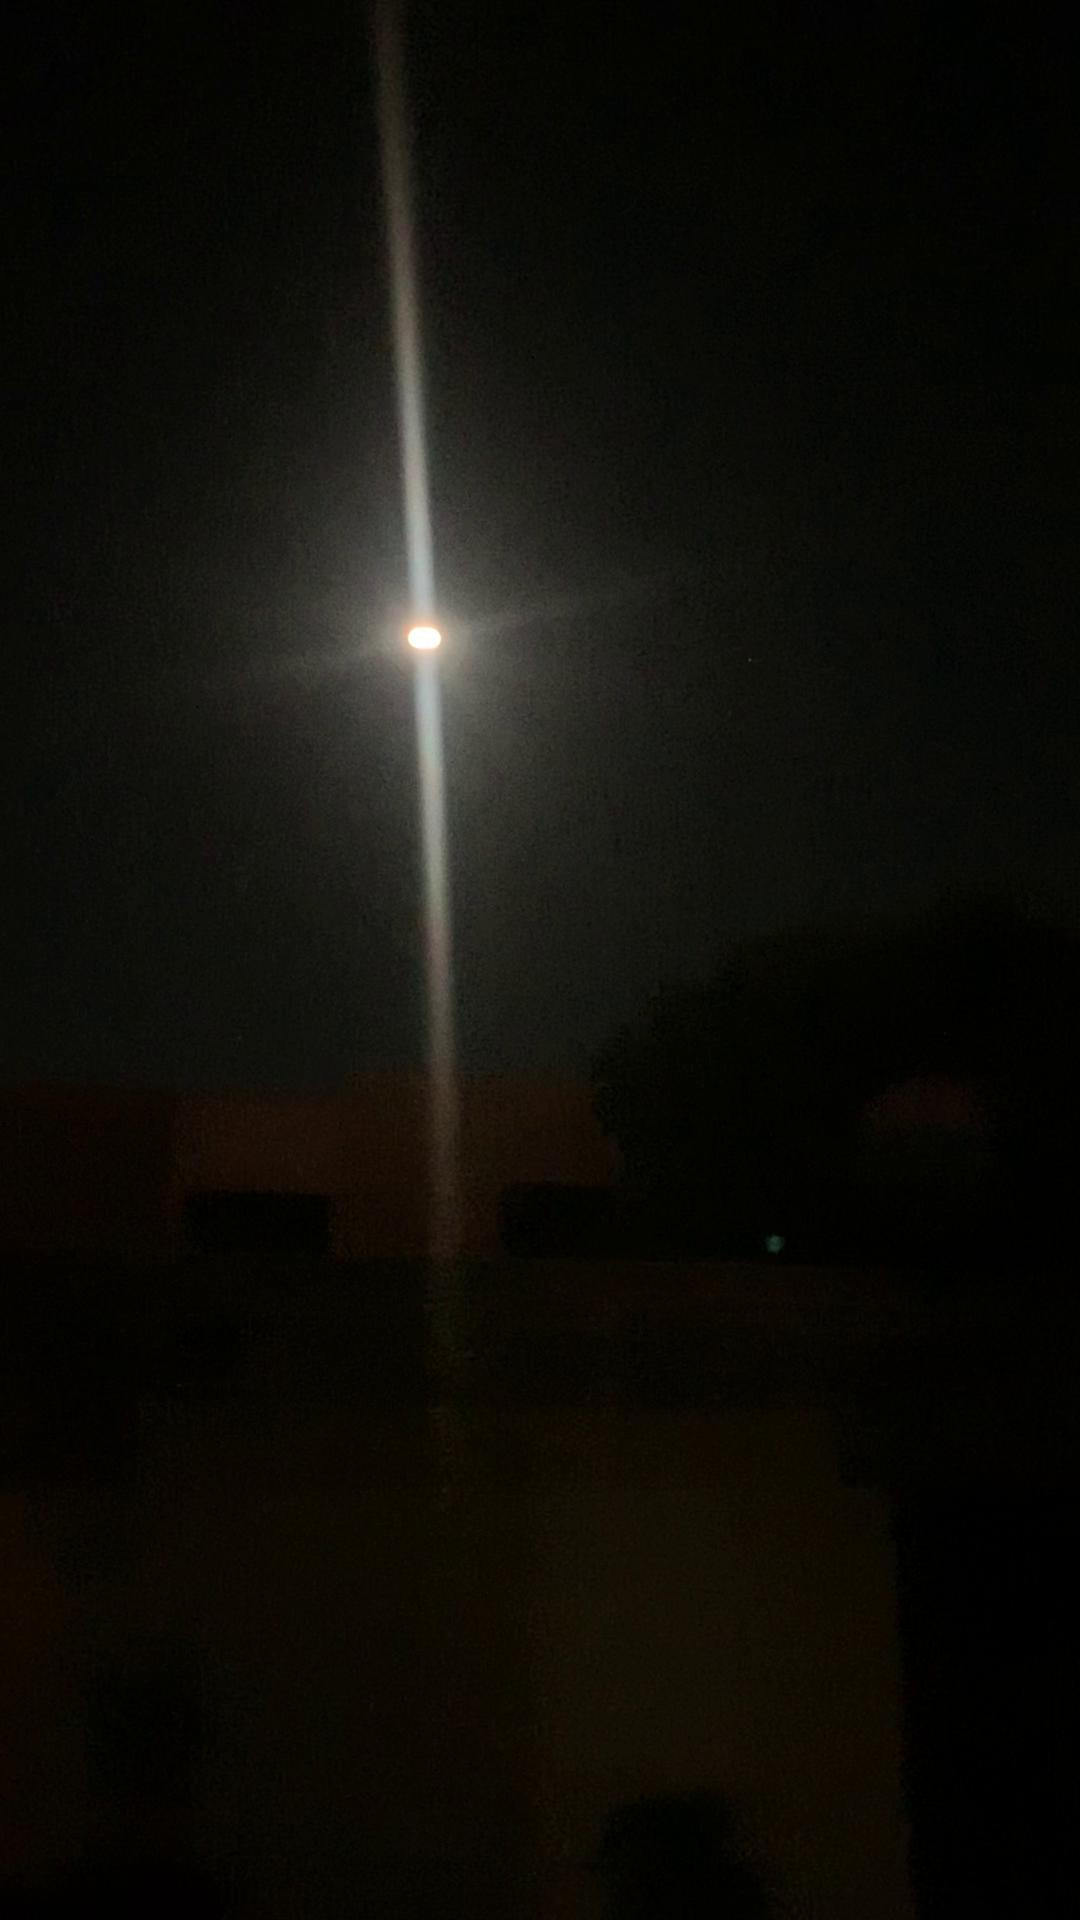moon: (398, 599, 473, 678)
